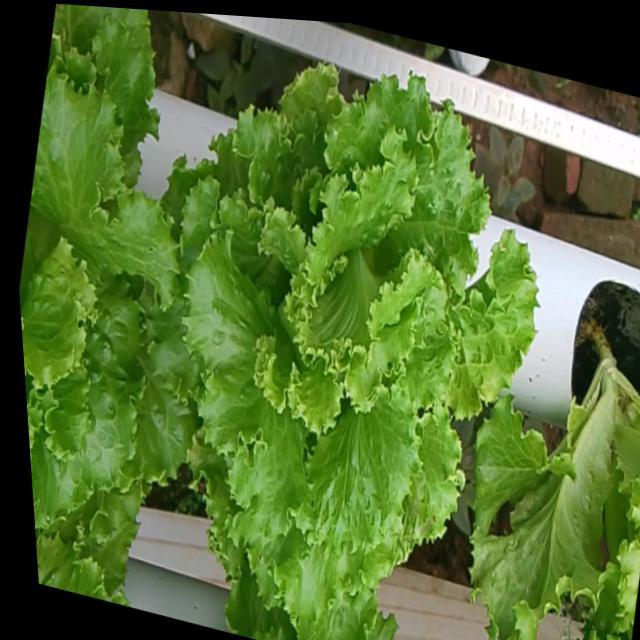Mature: (191, 56, 546, 610), (19, 51, 206, 519)
